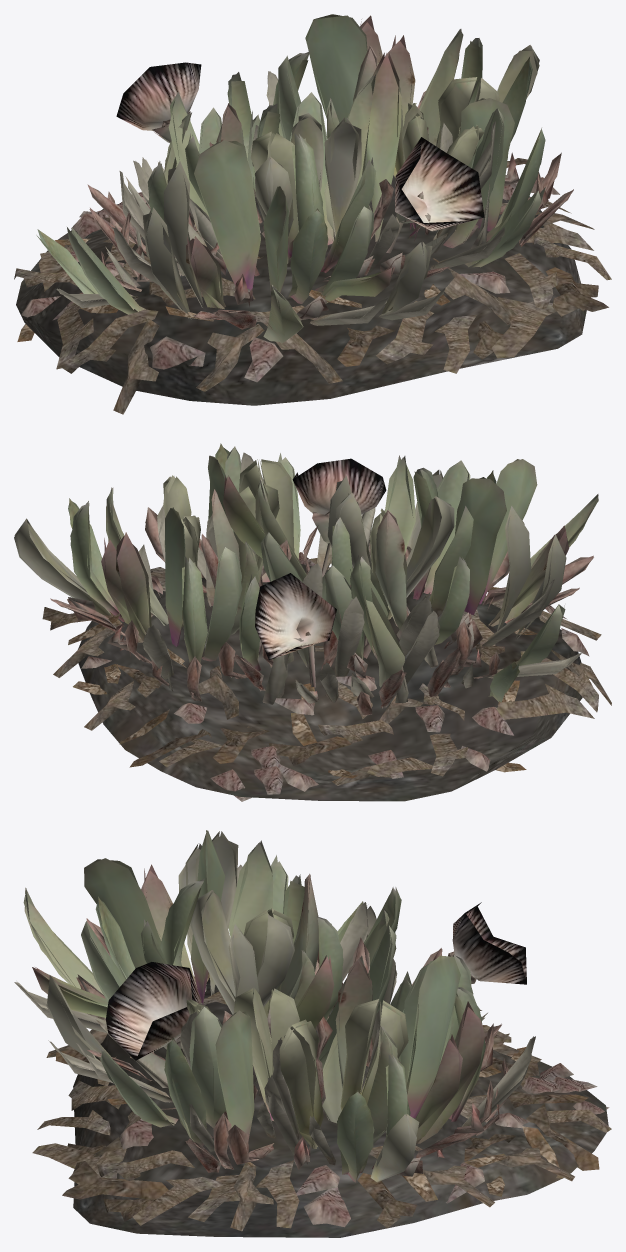
File: cheiridopsis_succulent_g.gltf.lod.glb
The picture shows the model from 3 angles, top to bottom: view 1: azimuth 30°, elevation 25°; view 2: azimuth 150°, elevation 25°; view 3: azimuth 270°, elevation 25°; orthographic projection. The views are drawn at different scales.
Parts seen in each view (by area): view 1: cheiridopsis_succulent_h_LOD0; view 2: cheiridopsis_succulent_h_LOD0; view 3: cheiridopsis_succulent_h_LOD0.
Boxes of the visible parts, left/top/right/bottom form: cheiridopsis_succulent_h_LOD0: left=14, top=14, right=611, bottom=414; cheiridopsis_succulent_h_LOD0: left=14, top=443, right=611, bottom=801; cheiridopsis_succulent_h_LOD0: left=14, top=830, right=611, bottom=1237.
Bounding box in the file's own units: 0.5956 × 0.2382 × 0.5304.
Materials: 2 (2 with a texture image).
